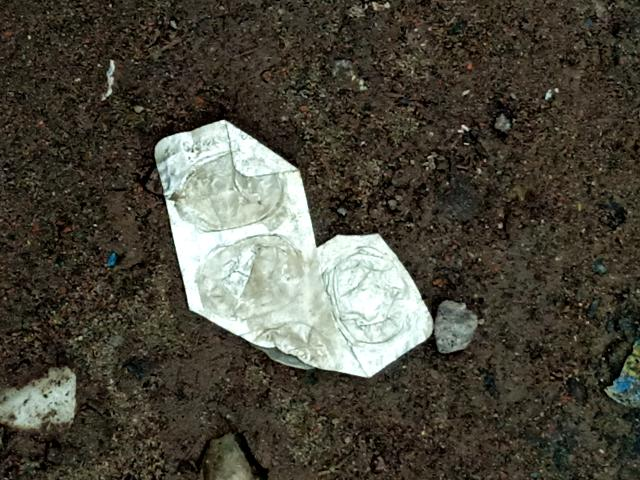medicine: (120, 87, 383, 446)
